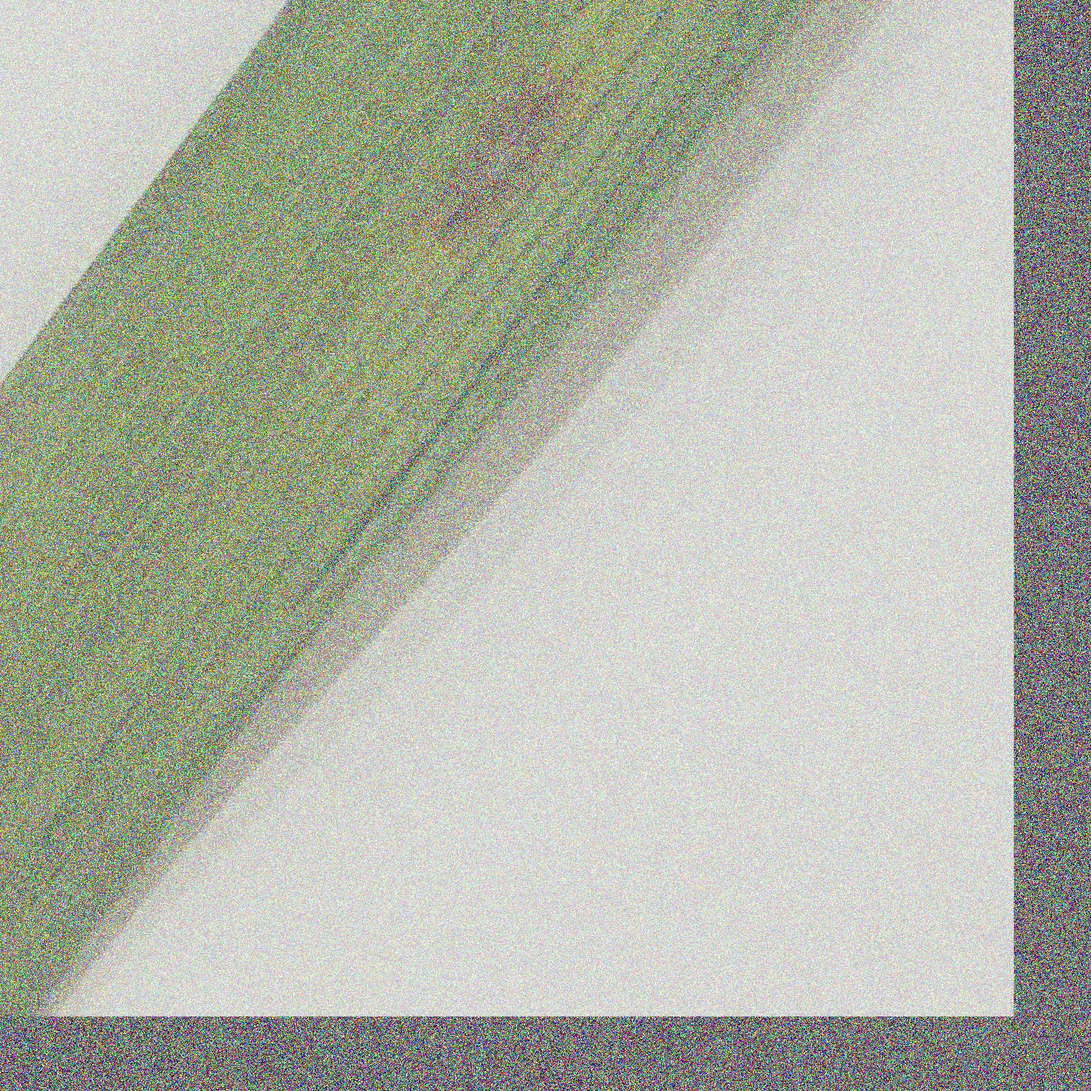Brown_Spot: (419, 22, 578, 266)
